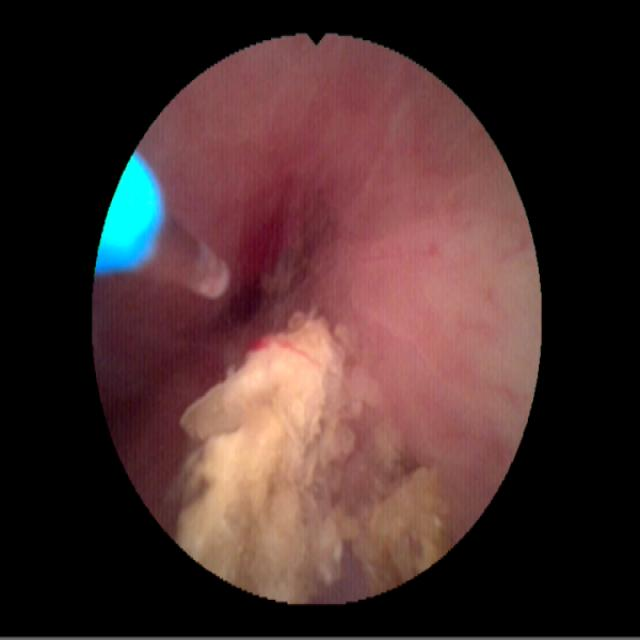fiber: (99, 158, 157, 268)
stone: (176, 317, 451, 598)
tissue: (102, 45, 528, 509)
